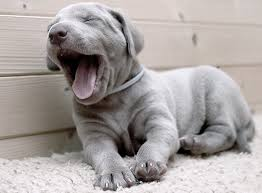dog: (30, 2, 261, 189)
